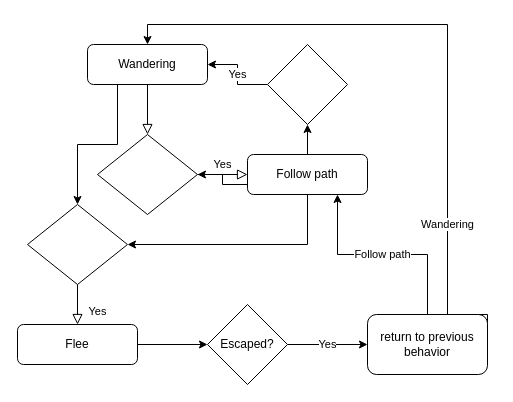
The diagram is 513 pixels wide and 402 high, and some of its shapes have lost their labels. The centre of each missing label's shape, as x and y in pixels:
"Enemy Near?" belongs at (77,244).
"Player left clicked?" belongs at (147,174).
"Reached target?" belongs at (307,84).
